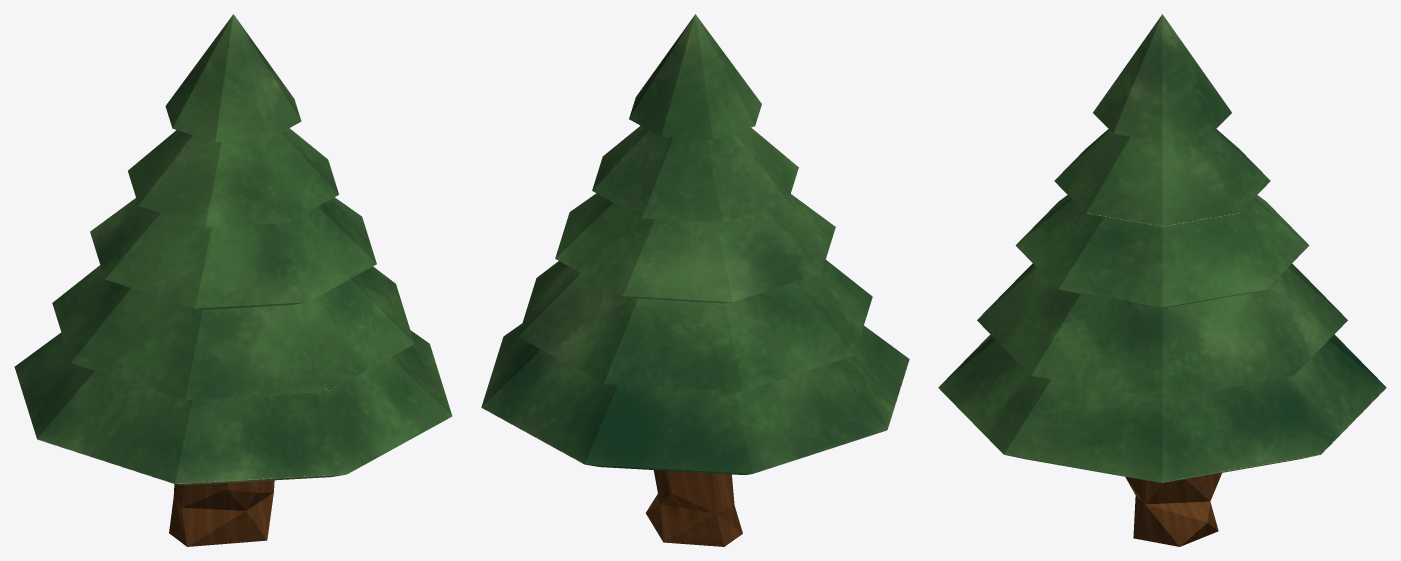
File: tree.fbx
3 views of the same model, side by side, from view 1: azimuth 30°, elevation 25°; view 2: azimuth 150°, elevation 25°; view 3: azimuth 270°, elevation 25° (orthographic). The views are drawn at different scales.
Parts seen in each view (by area): view 1: Object001; view 2: Object001; view 3: Object001.
Boxes of the visible parts, <box> form: Object001: <box>14,14,452,546</box>; Object001: <box>481,14,909,546</box>; Object001: <box>938,14,1386,546</box>.
Bounding box in the file's own units: 35.98 × 45.57 × 35.98.
